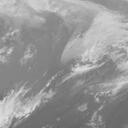cyclone: (44, 39, 106, 92)
